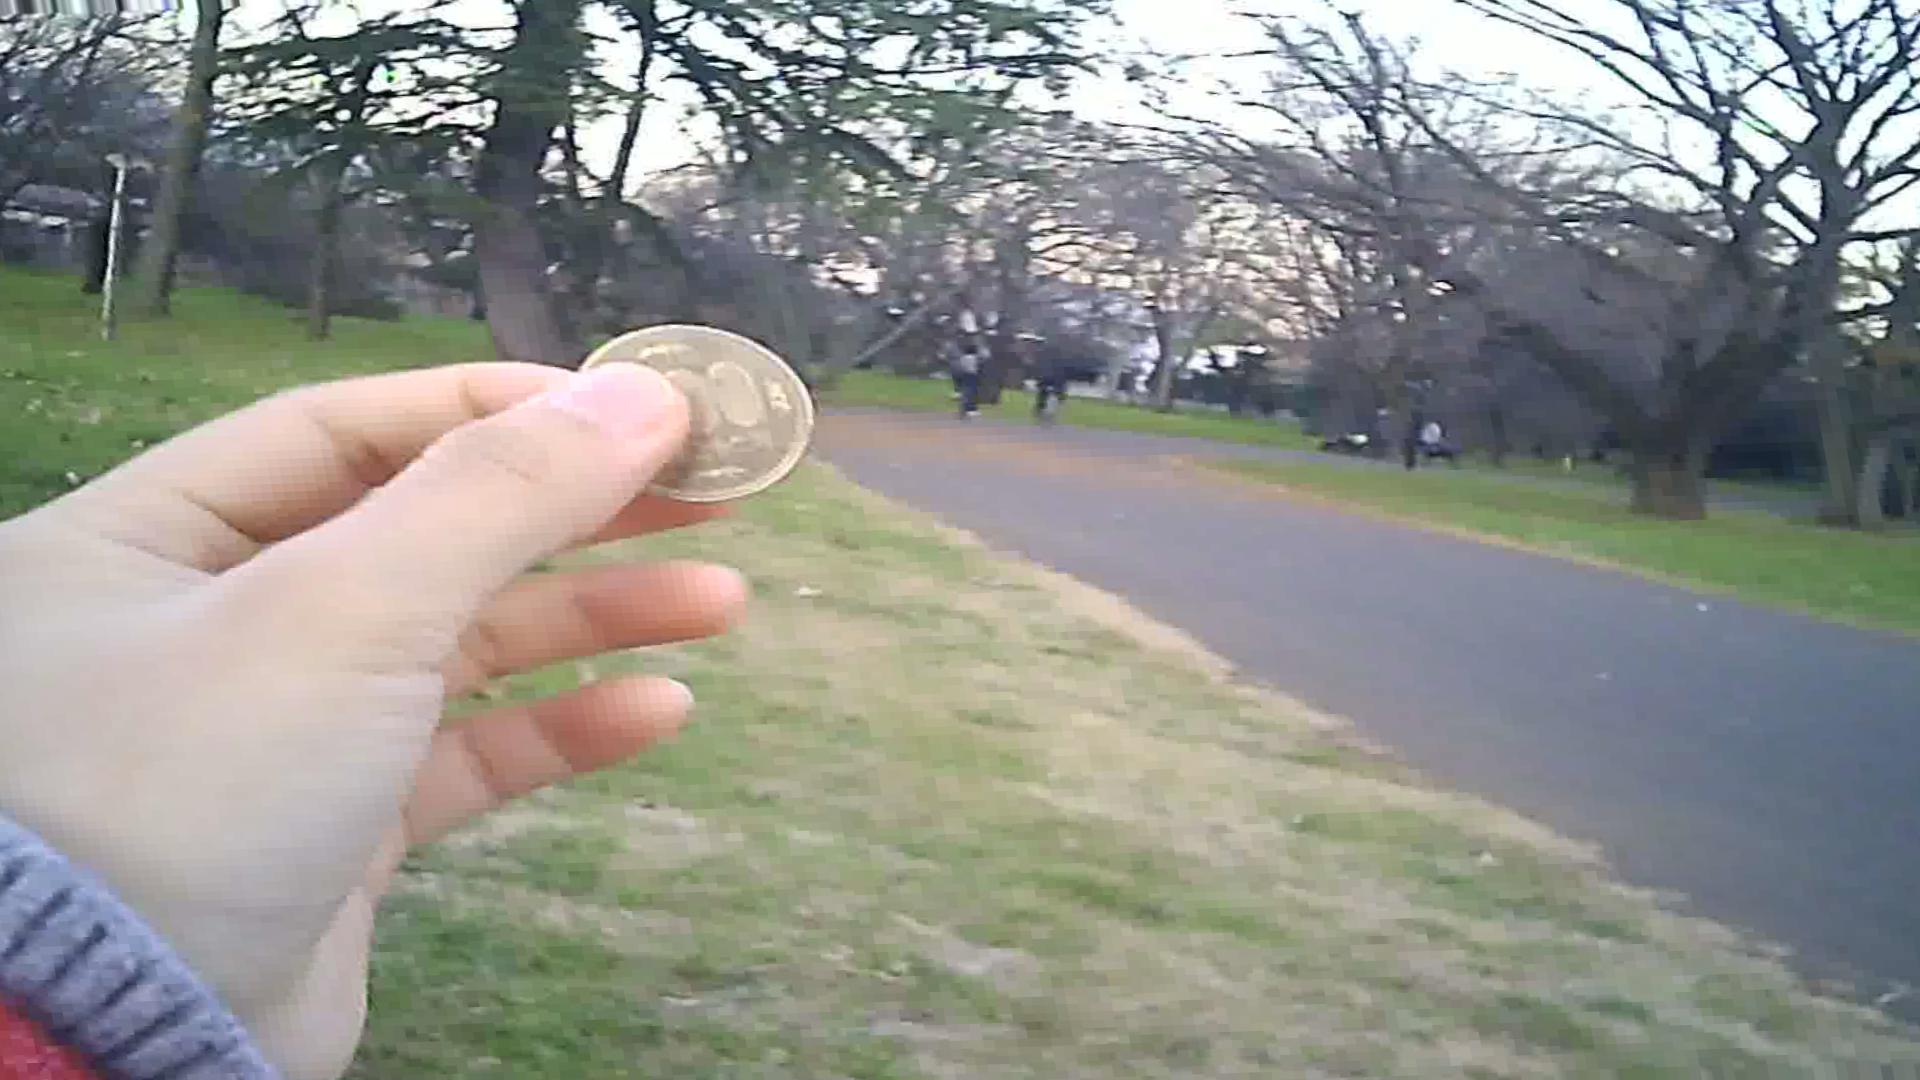500 Yen: (585, 309, 843, 501)
